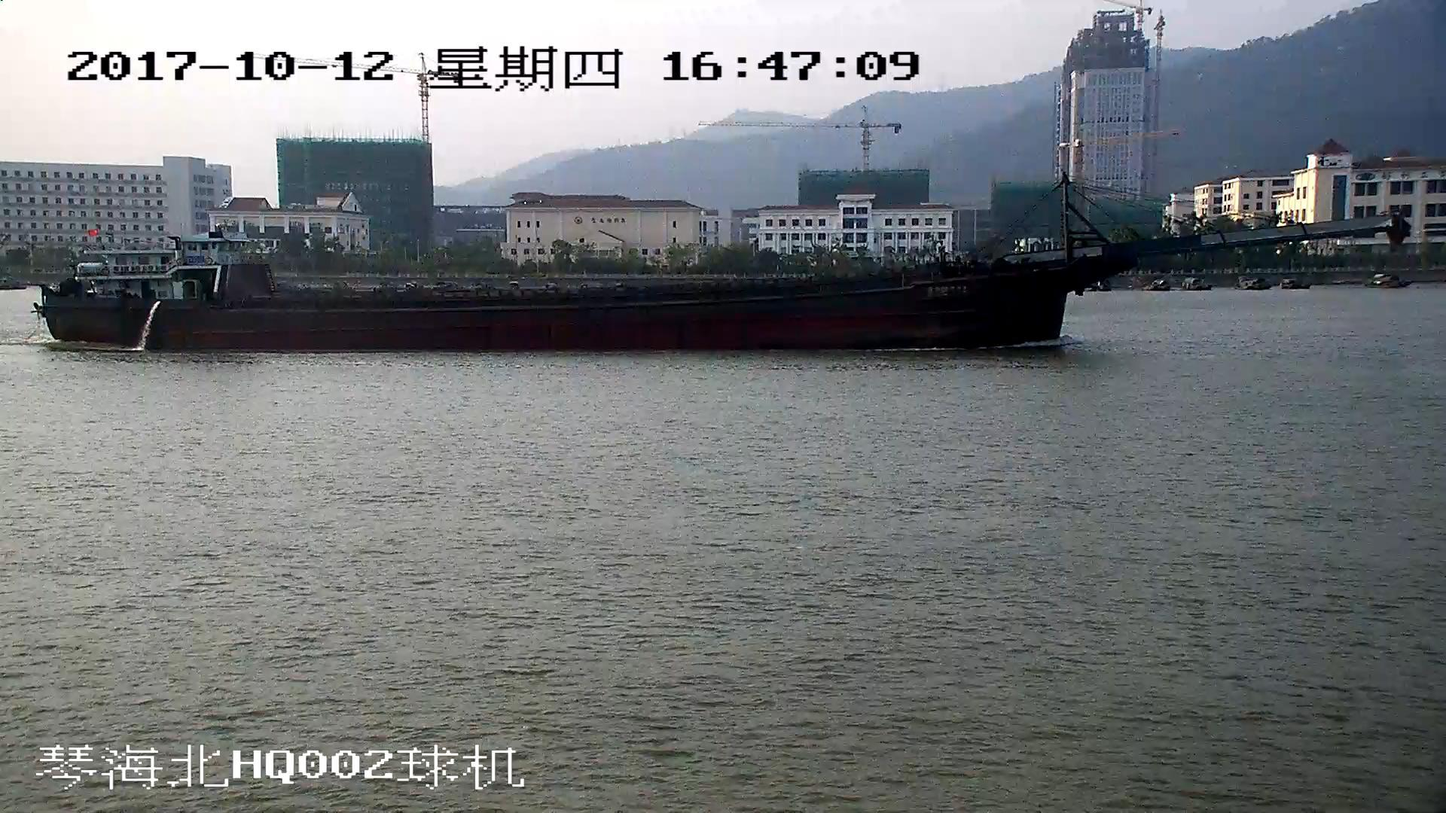bulk cargo carrier: (40, 168, 1393, 349)
